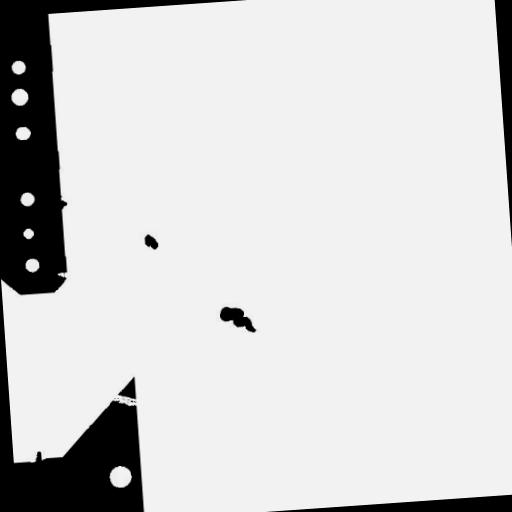copper: (211, 296, 264, 342), (136, 226, 166, 258)
mousebite: (49, 264, 76, 286)
open: (102, 384, 148, 415)
pin-hole: (2, 80, 36, 114), (15, 220, 42, 247)
spur: (27, 443, 50, 475), (50, 192, 76, 218)
